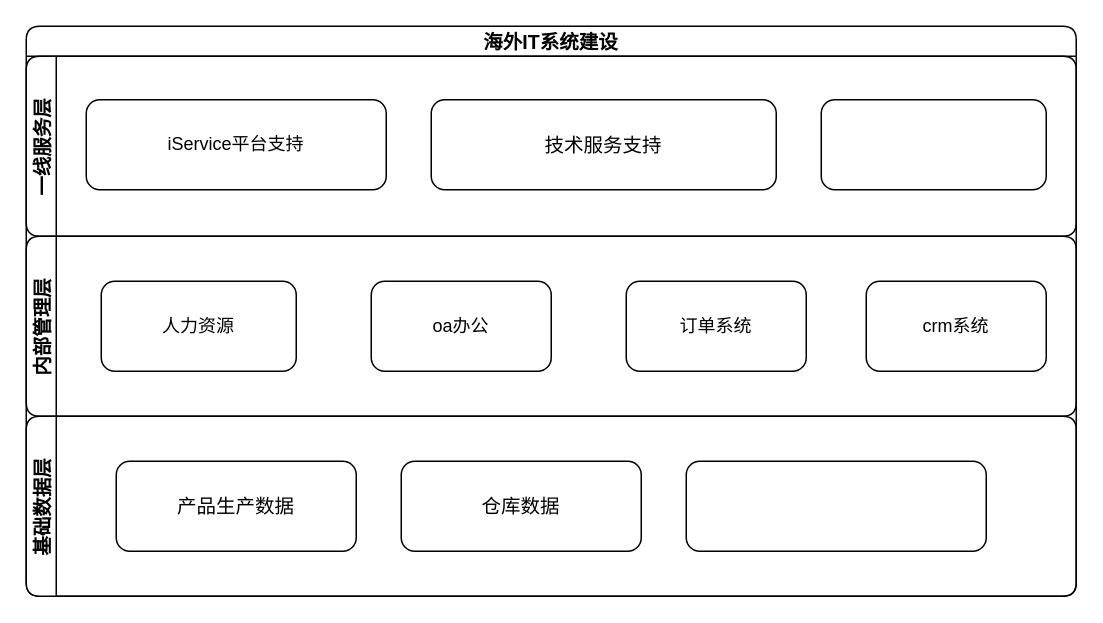
Image size: 1103x623. Some labels were removed from this diagram. Each missing label, with the centre of its shape:
"培训支持" belongs at pixel 933 144.
"订单/物流数据" belongs at pixel 835 505.
